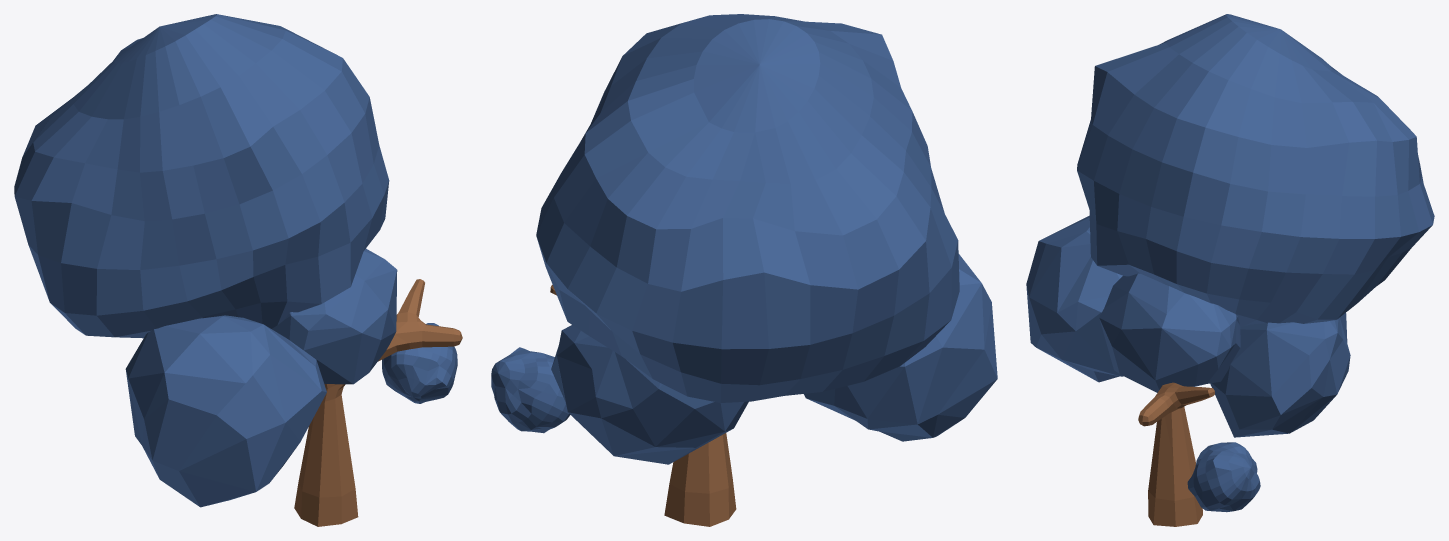
The model's file is tree-winter-complete-9-012.glb.
3 views of the same model, side by side, from view 1: azimuth 30°, elevation 25°; view 2: azimuth 150°, elevation 25°; view 3: azimuth 270°, elevation 25° (orthographic). The views are drawn at different scales.
Visible parts, largest first — view 1: TREE 9.005_208, TREE 9.004_209; view 2: TREE 9.005_208, TREE 9.004_209; view 3: TREE 9.005_208, TREE 9.004_209.
Boxes of the visible parts, box(x1,y1,x2,y2) form: TREE 9.005_208: box(14, 14, 457, 507); TREE 9.004_209: box(294, 279, 462, 526); TREE 9.005_208: box(491, 14, 997, 464); TREE 9.004_209: box(550, 285, 736, 526); TREE 9.005_208: box(1026, 14, 1434, 512); TREE 9.004_209: box(1138, 382, 1214, 526).
Bounding box in the file's own units: 1.3 × 1.5 × 1.22.
